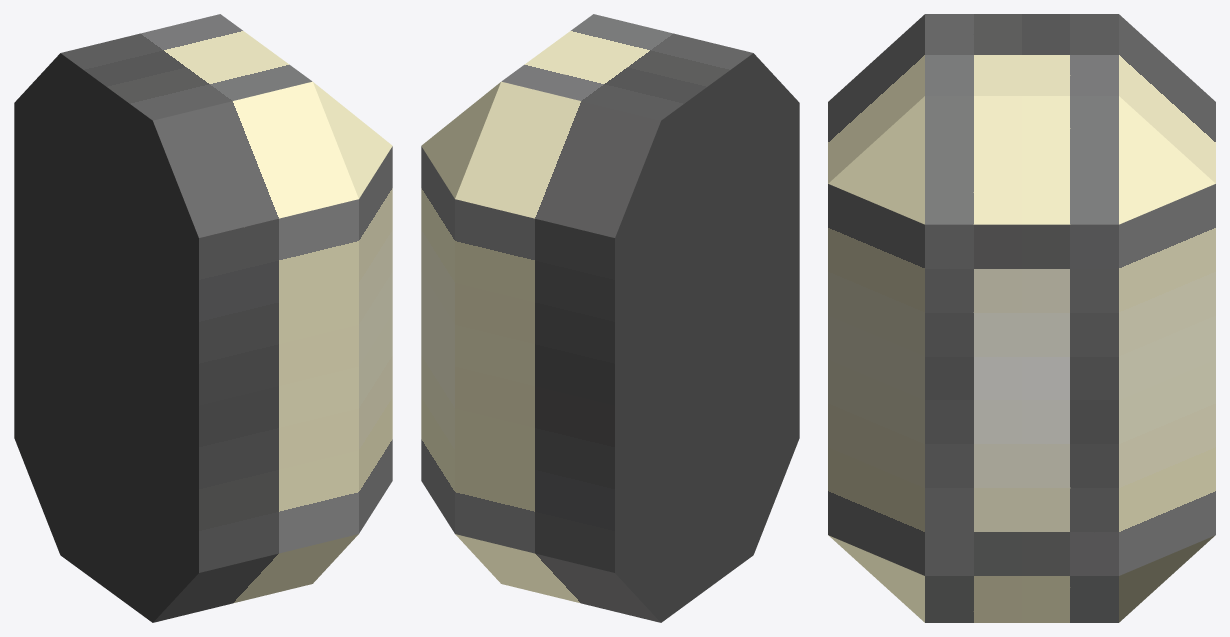
The model's file is RobustLamp.obj.
The picture shows the model from 3 angles, left to right: view 1: azimuth 30°, elevation 25°; view 2: azimuth 150°, elevation 25°; view 3: azimuth 270°, elevation 25°; orthographic projection. The views are drawn at different scales.
Parts seen in each view (by area): view 1: socket; view 2: socket; view 3: socket.
Part boxes in pixels (x1,y1,x2,y2): socket: (14, 14, 392, 622); socket: (421, 14, 799, 622); socket: (828, 14, 1215, 622).
Size of the model in its own units: 0.1875 by 0.375 by 0.25.
Materials: 1 (1 with a texture image).
